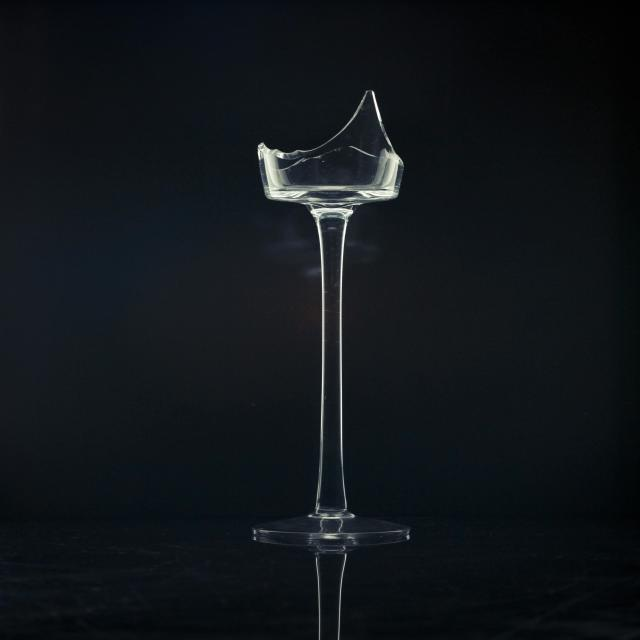electronic: (247, 89, 446, 548)
